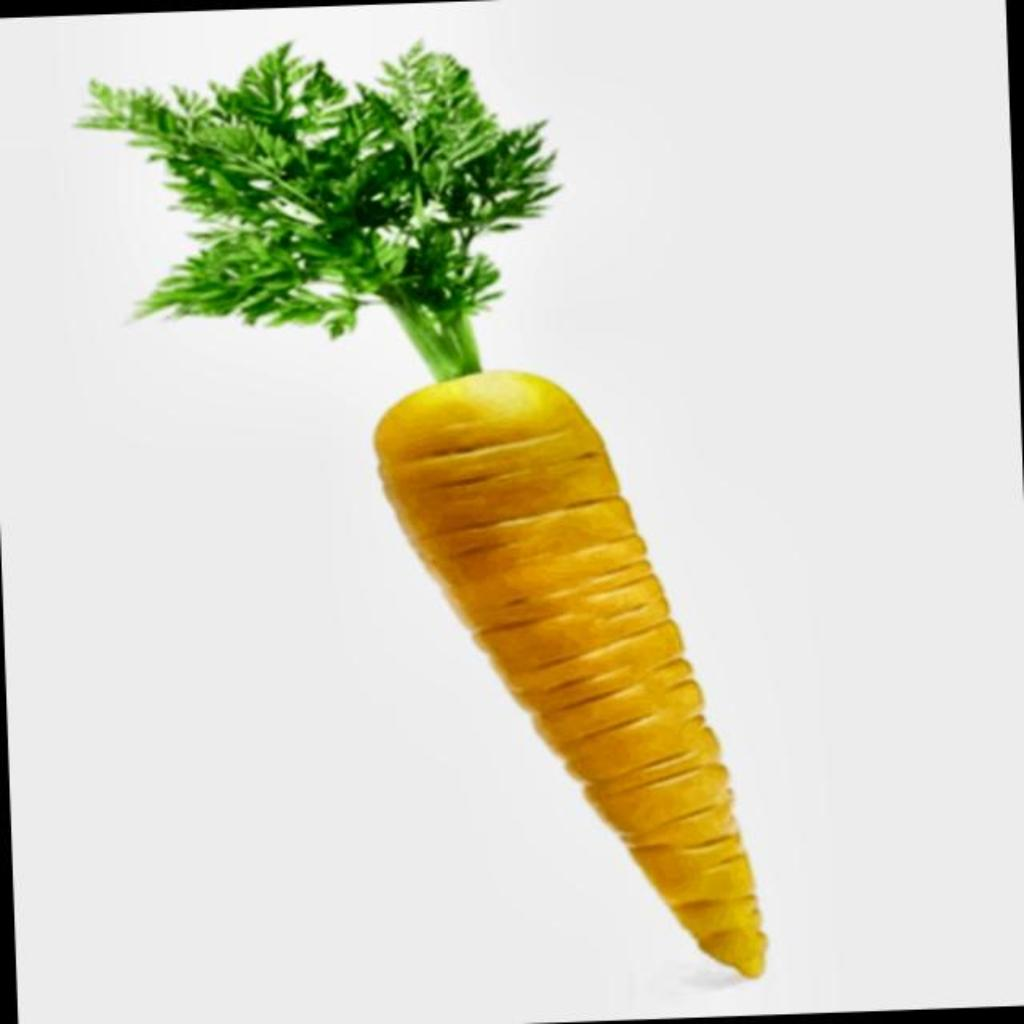carrot: (84, 44, 766, 977)
